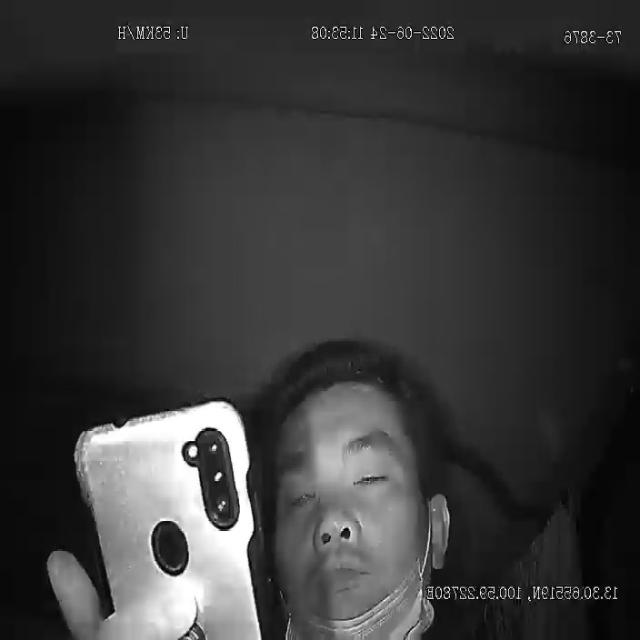phone: (73, 398, 272, 640)
